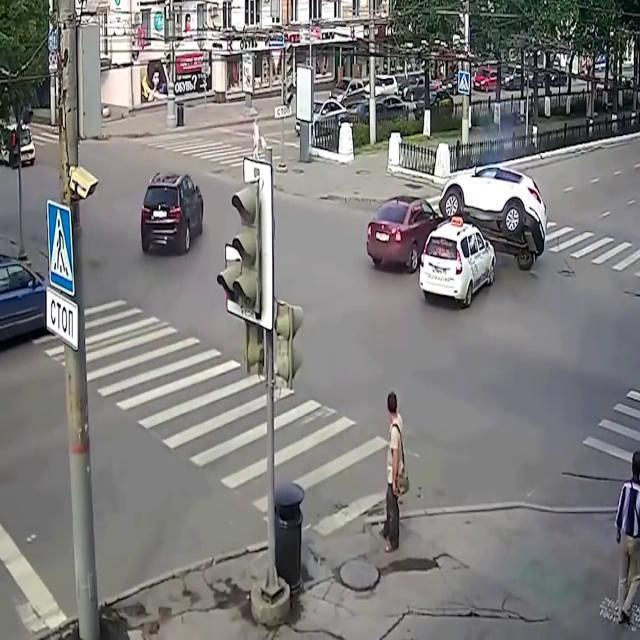accident: (365, 163, 549, 311)
non-accident: (294, 95, 410, 141), (400, 76, 454, 122), (328, 74, 398, 106), (472, 64, 534, 94), (440, 67, 502, 96)
